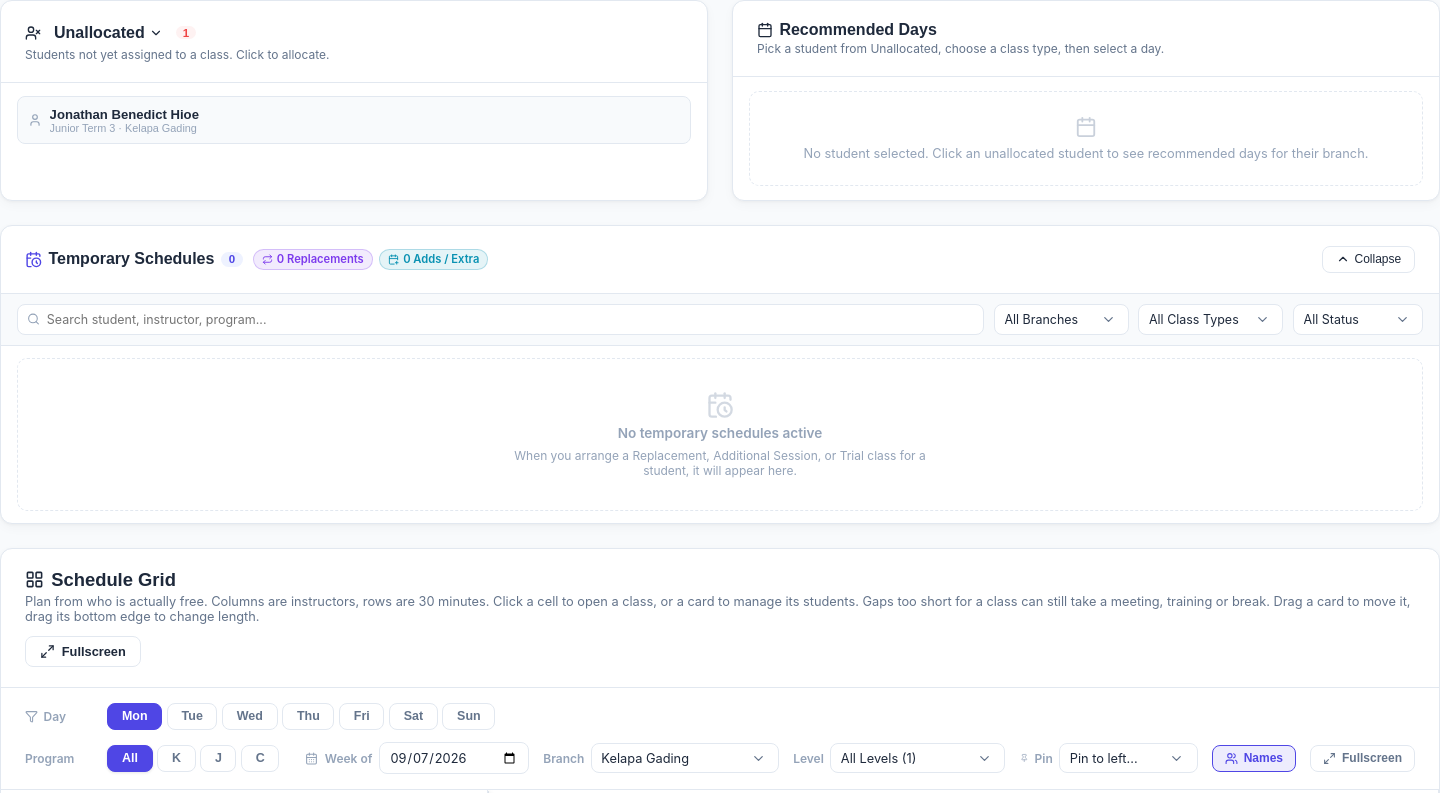
Test case: NewSchedulePage - Program and Term Locking › correctly maps Junior Term 3 to J3 and Term 3 without manual re-entry
The image size is (1440, 793).
Click the text "Jonathan Benedict Hioe" at {"x": 124, "y": 114}, box top-left (50, 107), bottom-right (199, 122)
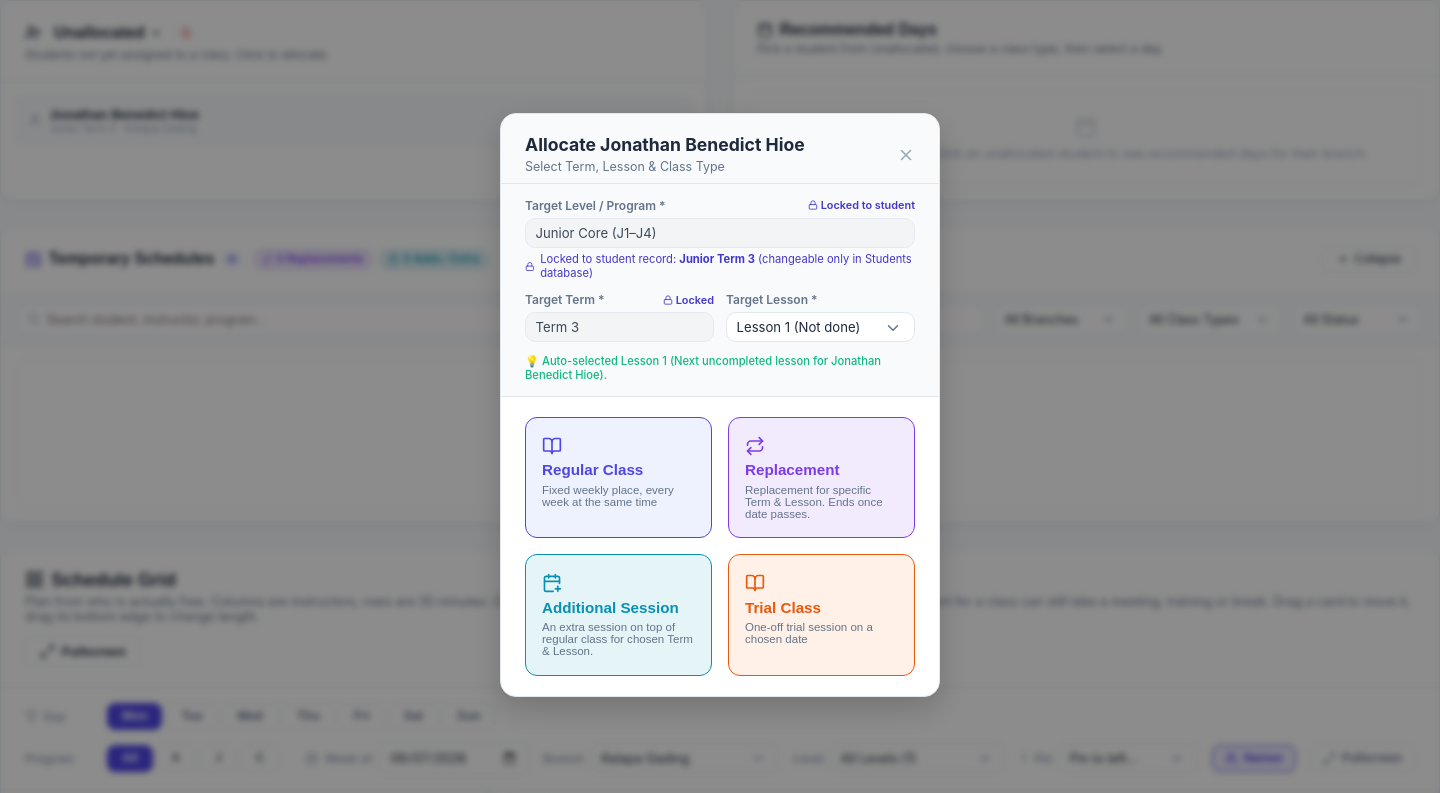
Click the button "Regular Class" at {"x": 618, "y": 478}, box top-left (525, 417), bottom-right (712, 538)
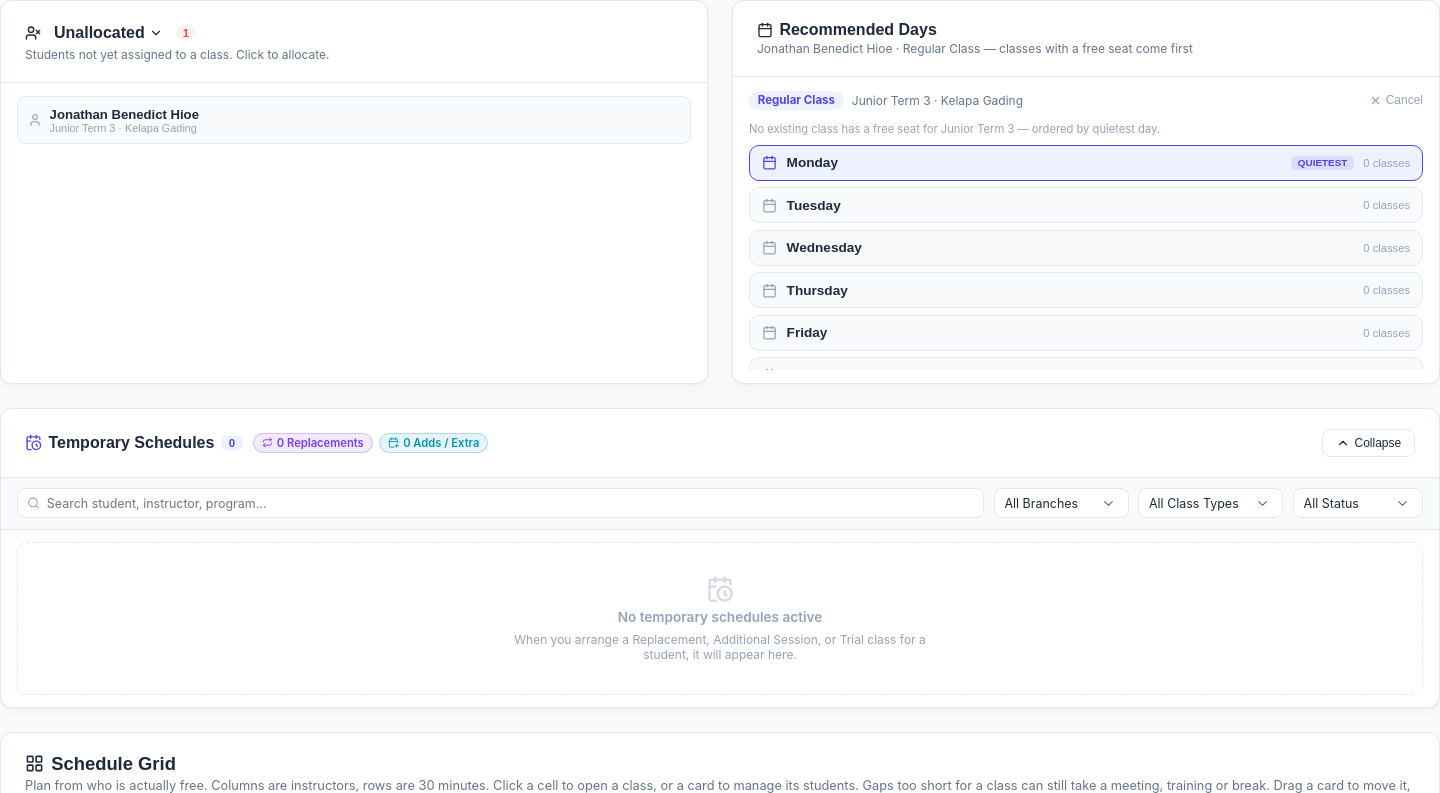
Click the text "Monday" at {"x": 812, "y": 163}, box top-left (787, 155), bottom-right (838, 170)
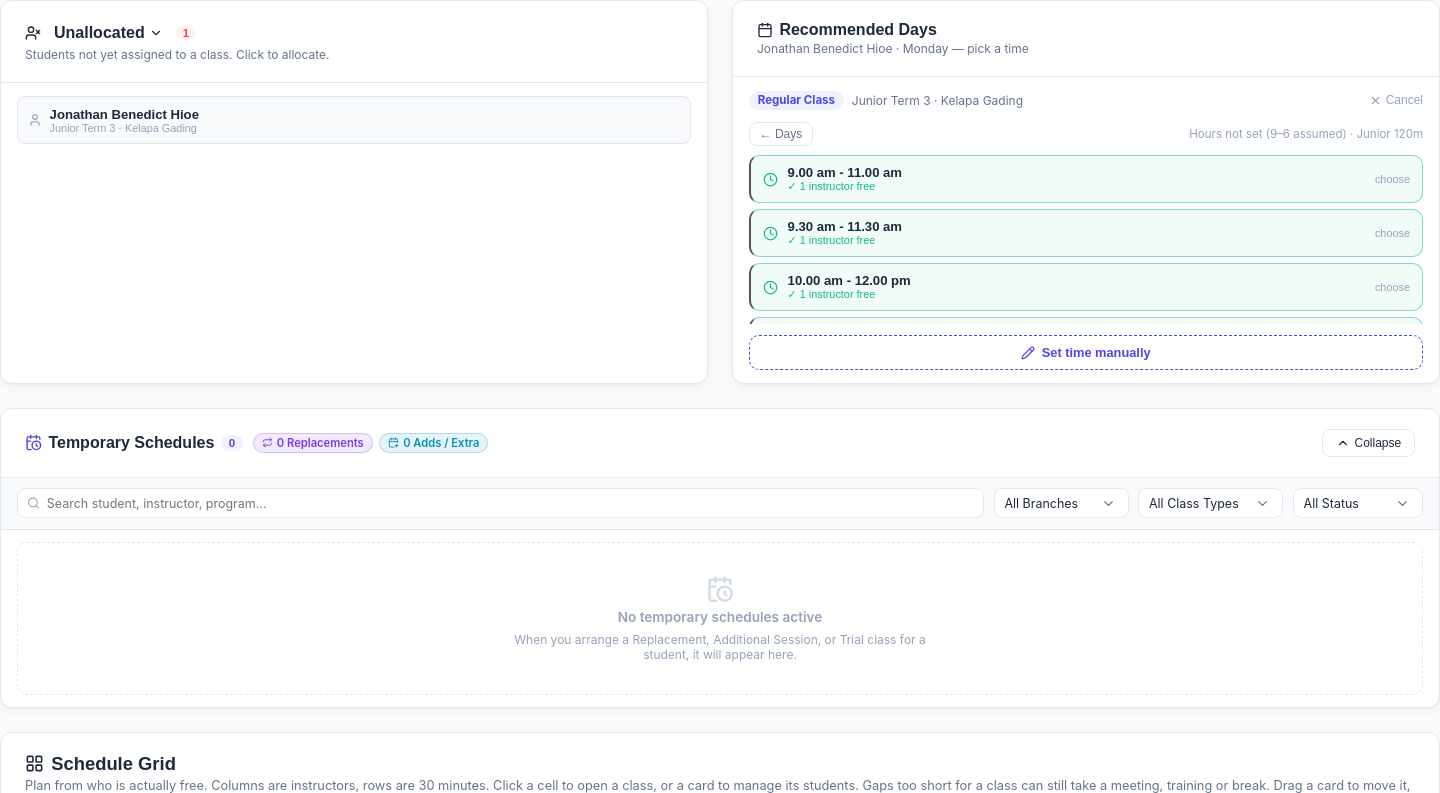
Click the button "Set time manually" at {"x": 1086, "y": 352}, box top-left (749, 335), bottom-right (1423, 370)
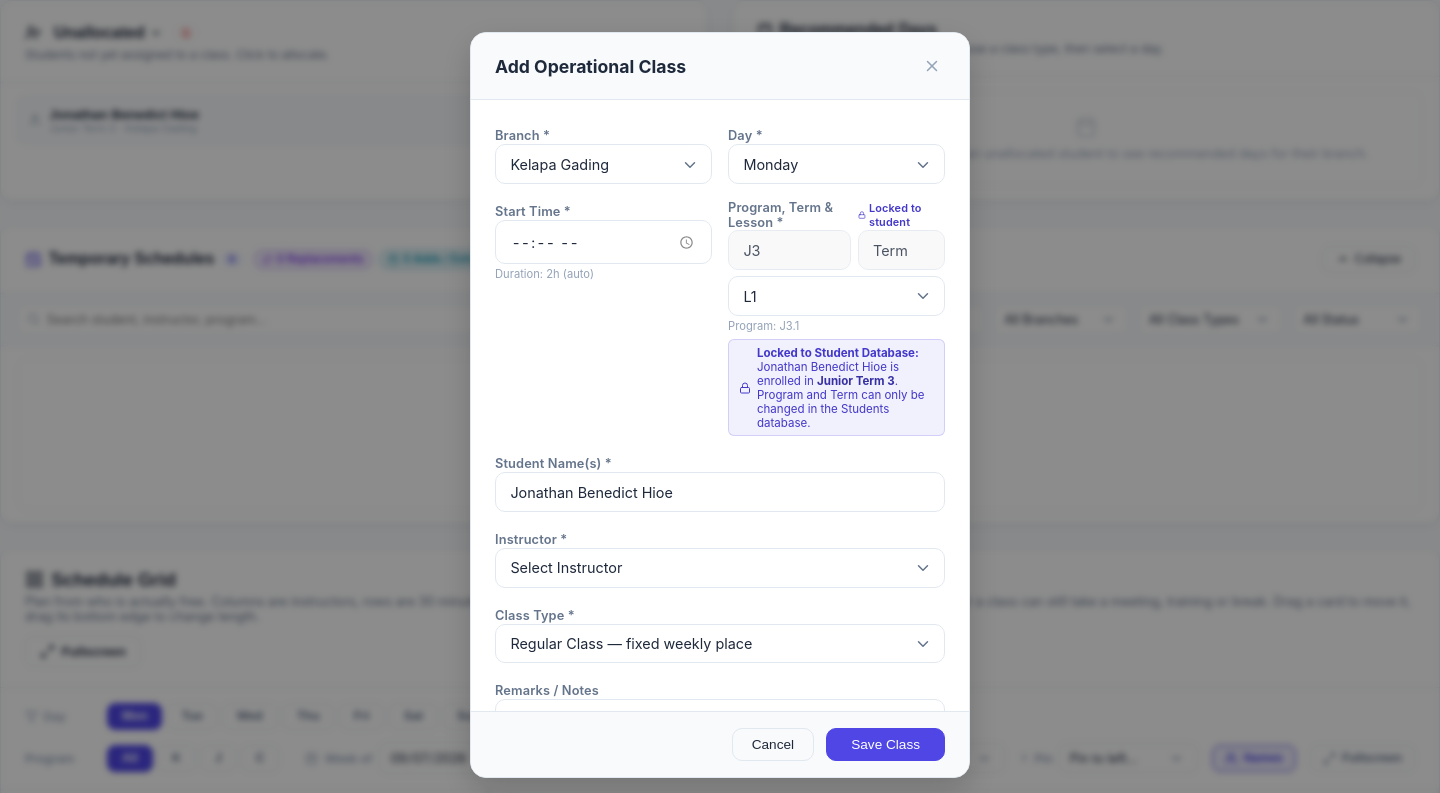
Check: the text "Locked to Student Database:" is shown, box top-left (757, 346), bottom-right (919, 360)
Check: the dropdown titled "Program is locked to student's enrolled level in database" is disabled, box top-left (728, 230), bottom-right (851, 270)
Check: the dropdown titled "Program is locked to student's enrolled level in database" shows "J3", box top-left (728, 230), bottom-right (851, 270)
